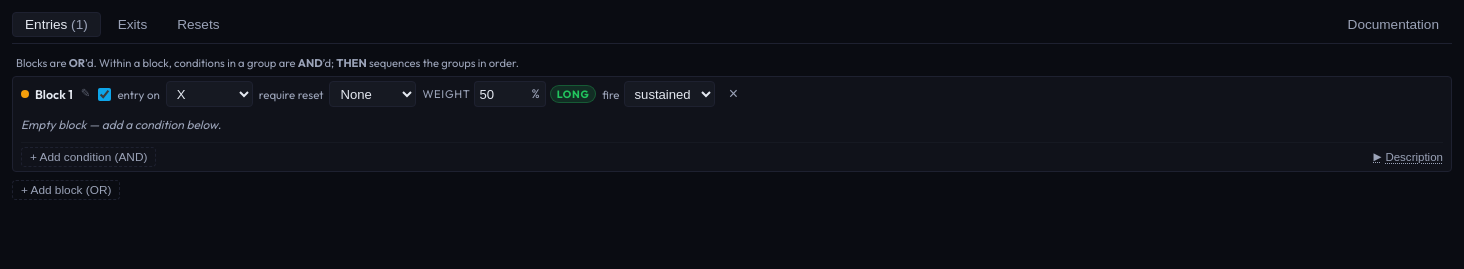
it: BlockEditor (v4 / two-section model) › clicking description toggle reveals textarea
This screenshot has width=1464, height=269.
Click the button with test id "block-desc-toggle-0": (1408, 157) [1373,149,1443,165]
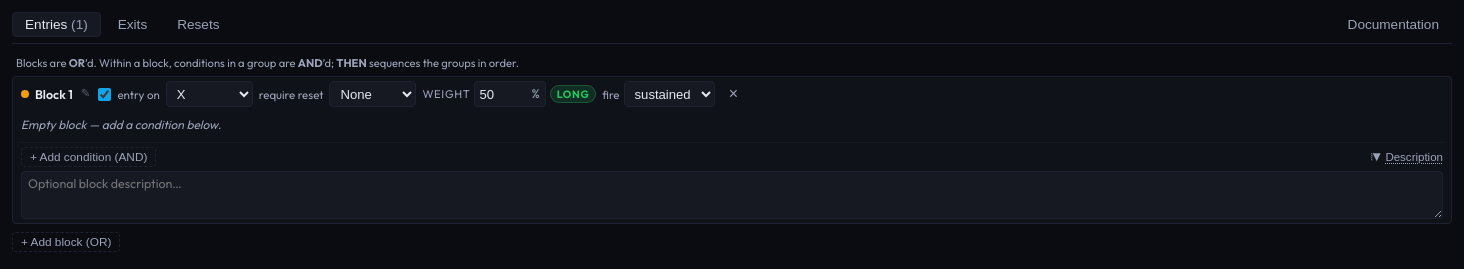
Check: the text box with test id "block-desc-textarea-0" is shown, box [21,171,1443,219]
Check: the button with test id "block-desc-toggle-0" is expanded, box [1373,149,1443,165]
